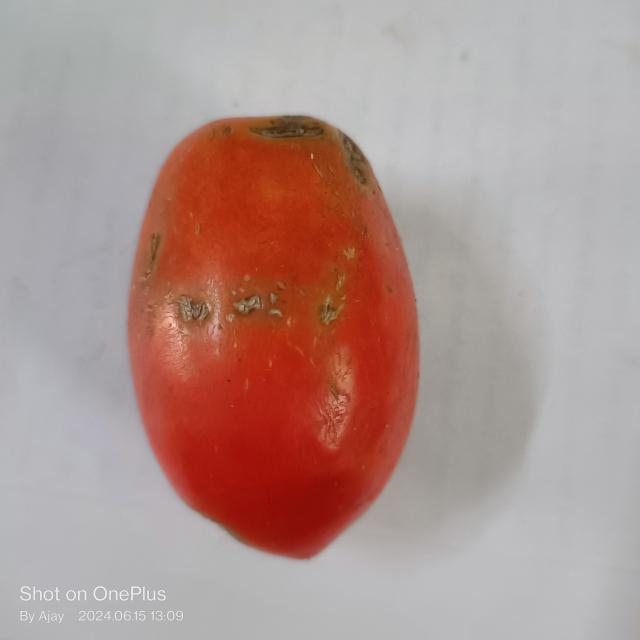Bacterial_Spot: (251, 116, 331, 143), (230, 286, 280, 322), (171, 298, 212, 332), (141, 235, 163, 270), (315, 302, 341, 326)
